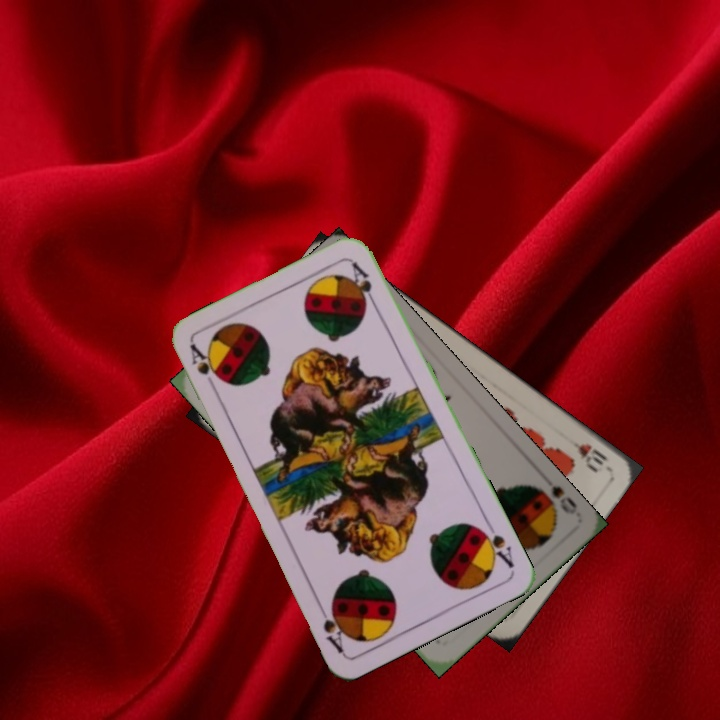H10: (559, 434, 611, 475)
SA: (473, 516, 517, 571), (186, 340, 221, 396)
SO: (526, 480, 580, 519)
